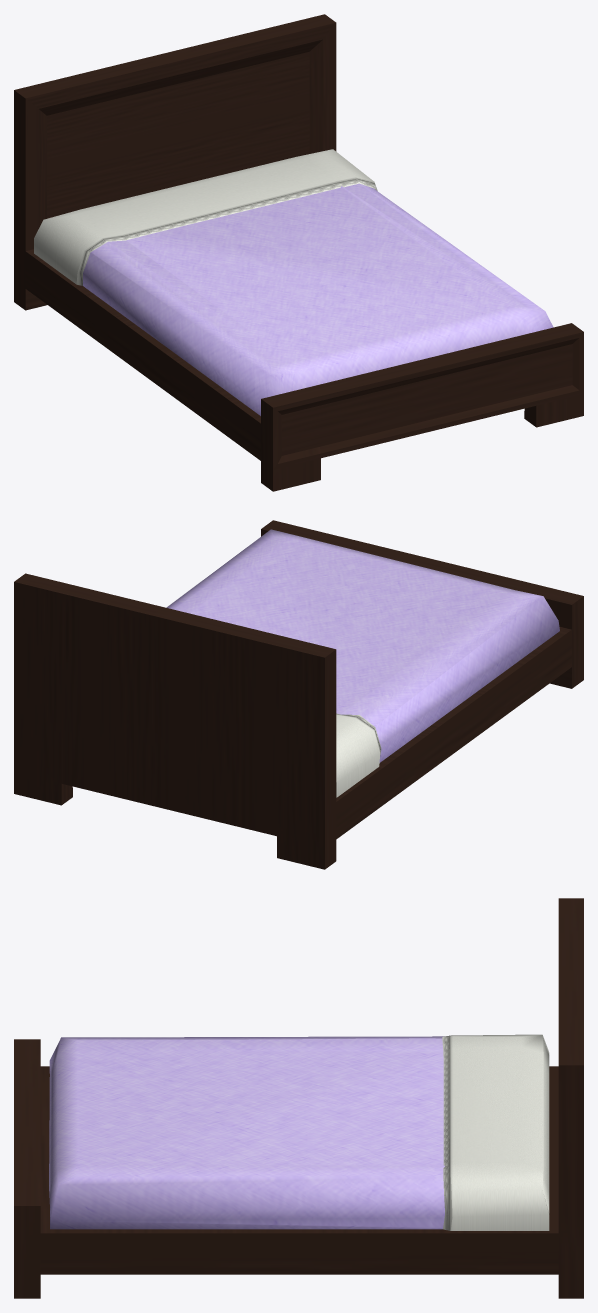
The model's file is Bed_O.FBX.
3 views of the same model, one above another, from view 1: azimuth 30°, elevation 25°; view 2: azimuth 150°, elevation 25°; view 3: azimuth 270°, elevation 25° (orthographic). The views are drawn at different scales.
Visible parts, largest first — view 1: Bed; view 2: Bed; view 3: Bed.
Boxes of the visible parts, x1,y1,x2,y2 form: Bed: (14, 14, 583, 491); Bed: (14, 520, 583, 869); Bed: (14, 898, 583, 1298).
Size of the model in its own units: 397 by 259 by 573.
